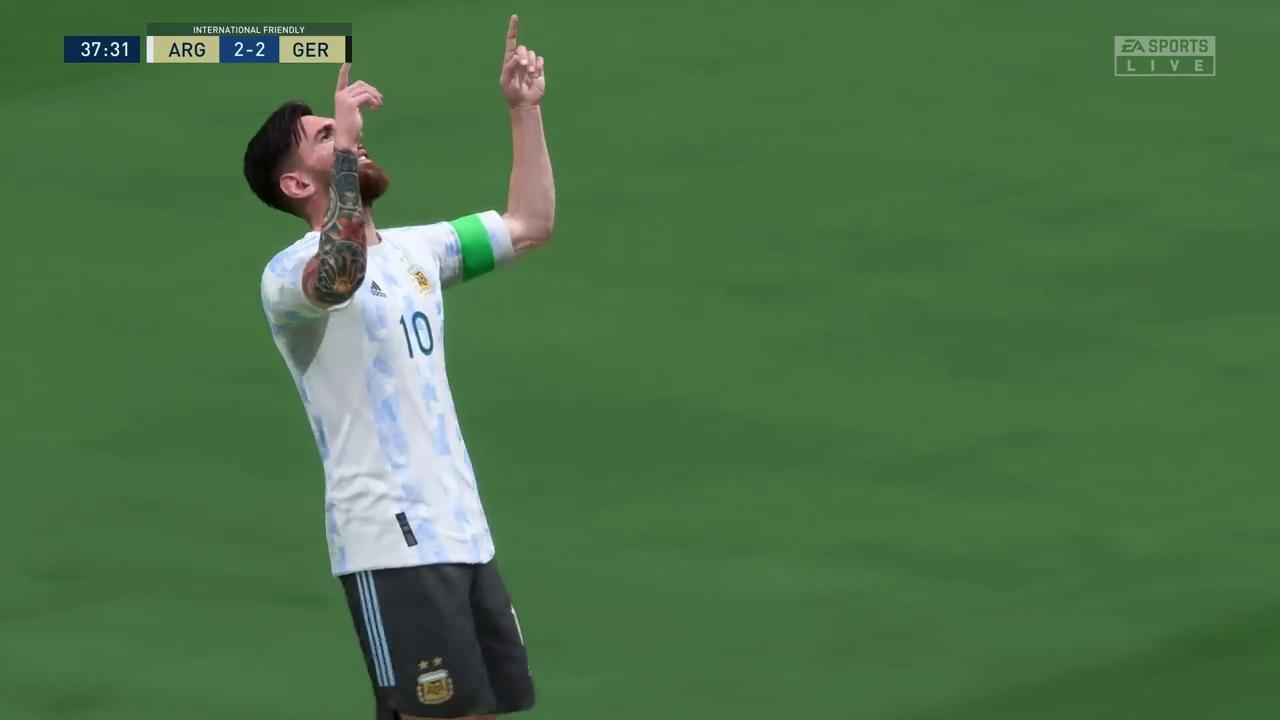scoreboard: (148, 37, 348, 63)
timestamp: (63, 36, 137, 60)
